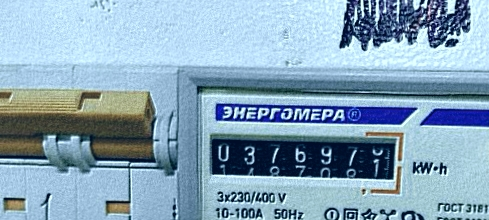0: (215, 141, 232, 162)
1: (371, 157, 382, 178)
3: (242, 143, 257, 167)
6: (294, 142, 308, 163)
7: (268, 141, 282, 165), (345, 144, 359, 167)
9: (319, 143, 333, 166)
screen: (203, 127, 407, 198)
